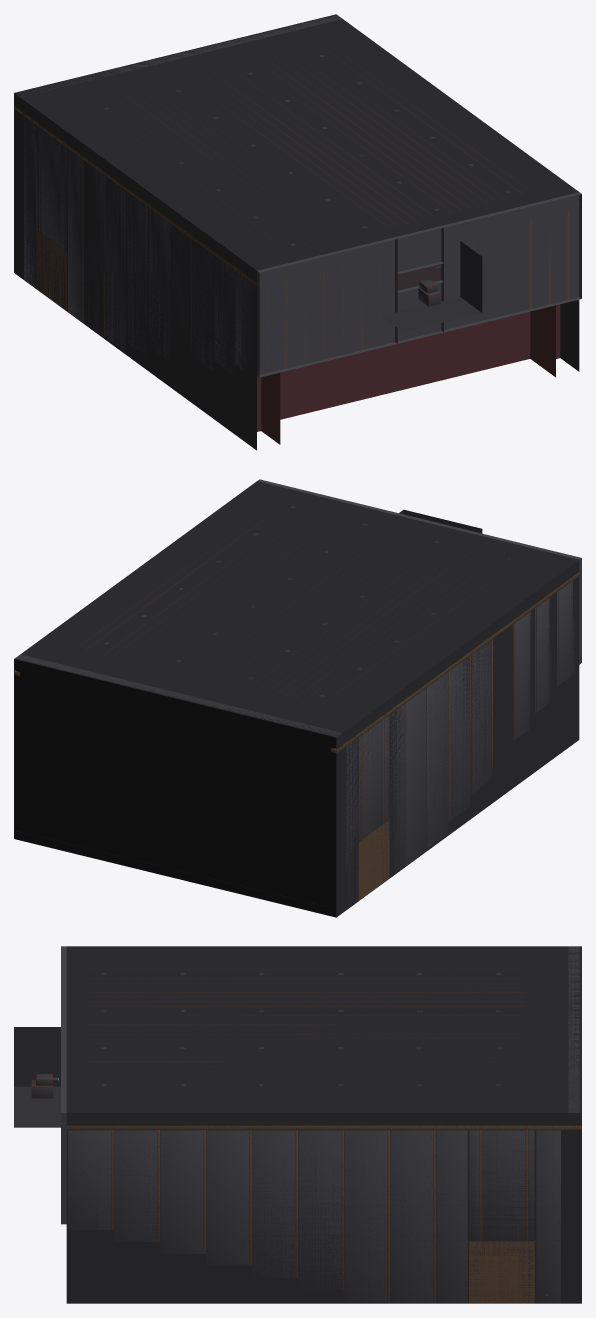
Rendered from hall.glb.
3 views of the same model, one above another, from view 1: azimuth 30°, elevation 25°; view 2: azimuth 150°, elevation 25°; view 3: azimuth 270°, elevation 25° (orthographic). The views are drawn at different scales.
Parts seen in each view (by area): view 1: Hall, BoothGlass; view 2: Hall; view 3: Hall.
Boxes of the visible parts, bbox=[...] form: Hall: bbox=[14, 14, 581, 450]; BoothGlass: bbox=[397, 264, 441, 290]; Hall: bbox=[14, 479, 581, 917]; Hall: bbox=[14, 946, 581, 1303].
Bounding box in the file's own units: 18 × 9.6 × 25.9.
